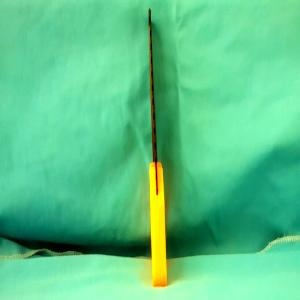serrote: (148, 8, 167, 288)
